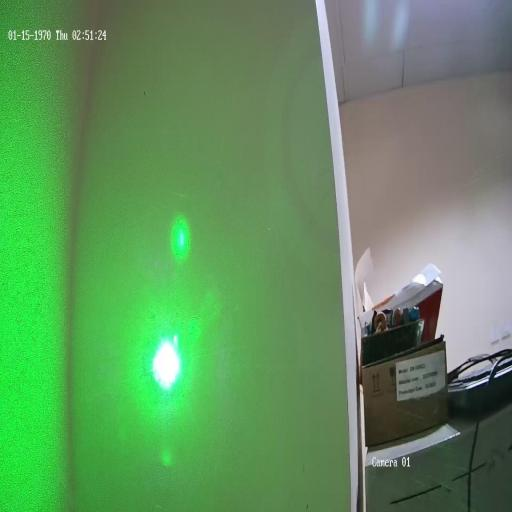laser: (137, 320, 187, 403)
